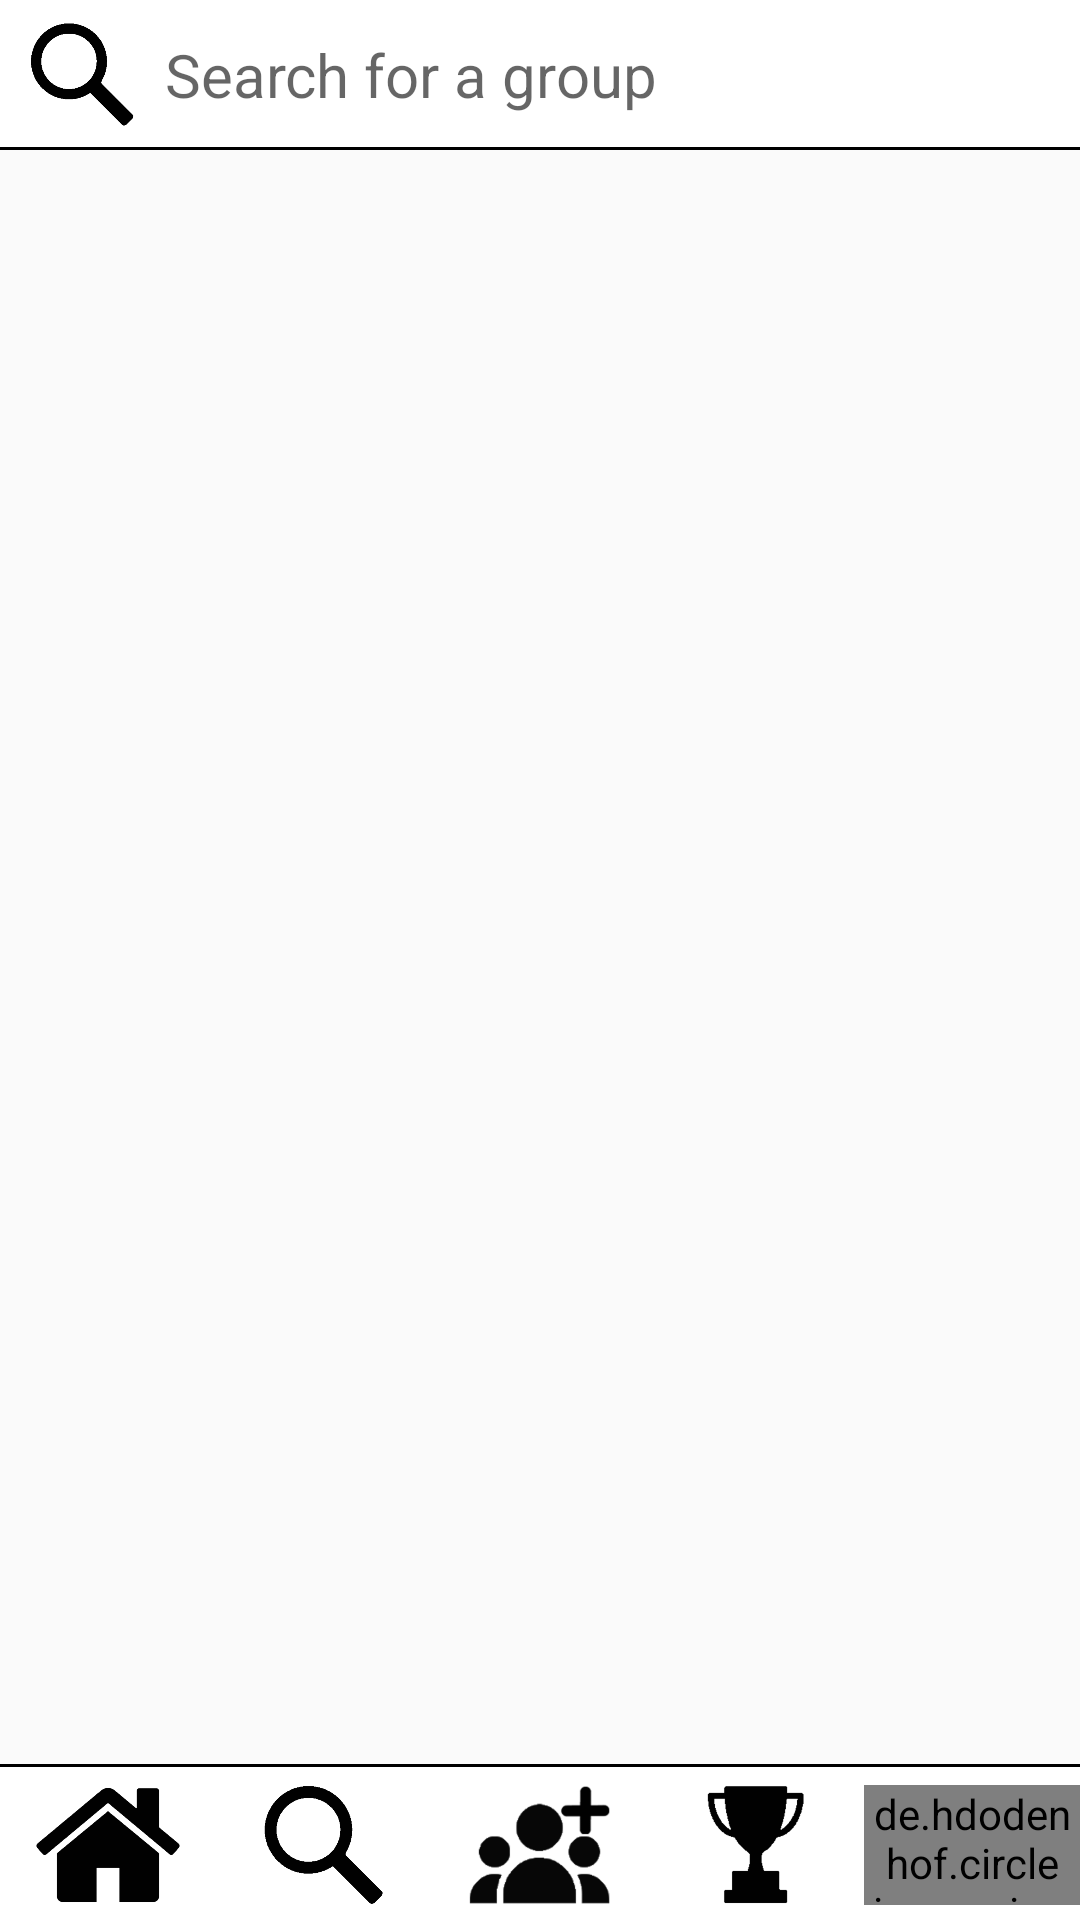

Where icons sit on this 1080×1920 app screen, as (x1, y1, x2, y2):
create group: (469, 1786, 610, 1904)
home: (36, 1788, 180, 1902)
trophy: (707, 1786, 804, 1903)
